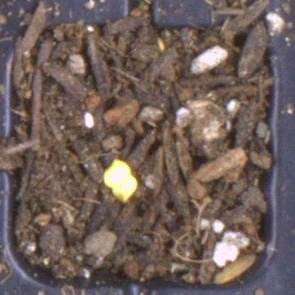chilli seed: (102, 157, 131, 188), (111, 175, 138, 203)
